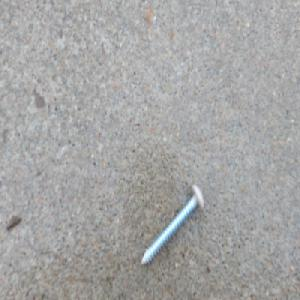Nail: (140, 182, 204, 268)
